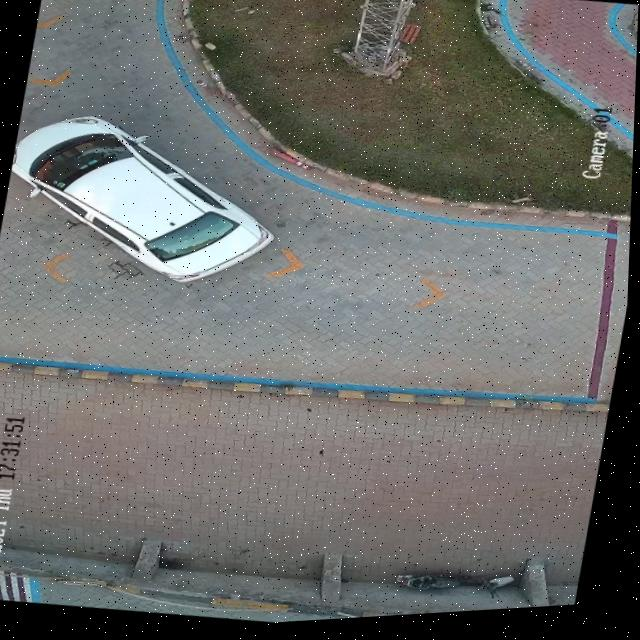car: (16, 123, 273, 284)
